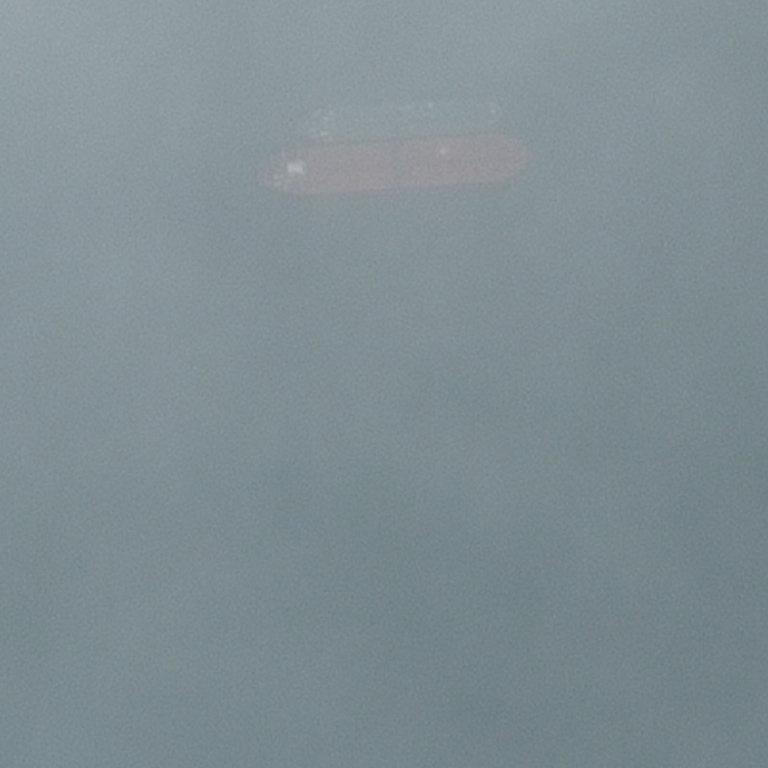ship: (231, 50, 546, 93), (524, 151, 530, 161), (1, 156, 7, 163), (257, 6, 261, 10)
